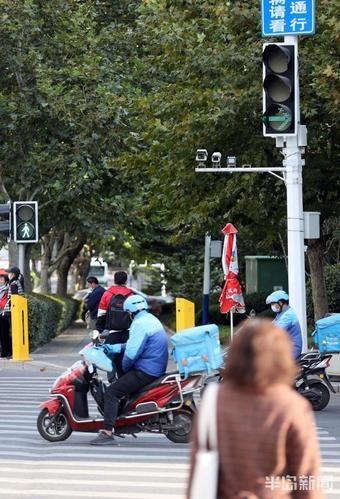camera: (194, 147, 209, 161), (212, 150, 220, 165)
car: (311, 313, 340, 385)
motorcycle: (35, 332, 204, 445), (294, 351, 337, 412)
person: (192, 318, 321, 498), (94, 291, 169, 446), (265, 290, 303, 359), (92, 273, 134, 333), (0, 269, 17, 359), (83, 276, 106, 330)
sign: (259, 0, 314, 36)
traffic light: (261, 43, 297, 137), (13, 201, 38, 244)
